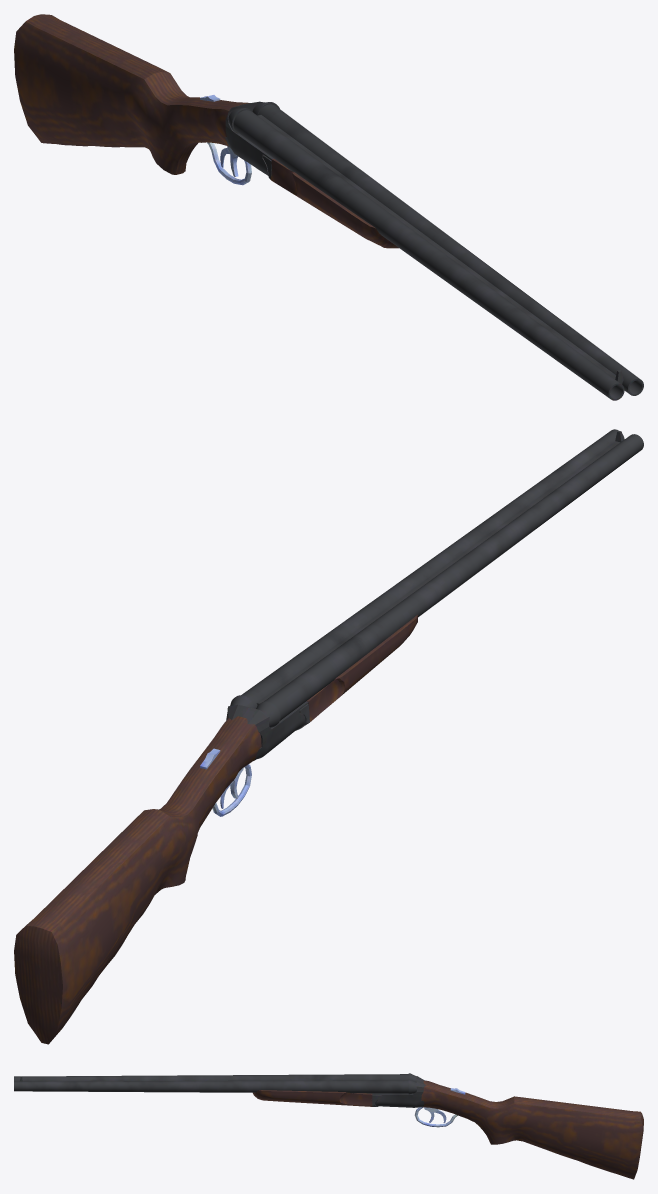
File: shotgun.glb
3 views of the same model, one above another, from view 1: azimuth 30°, elevation 25°; view 2: azimuth 150°, elevation 25°; view 3: azimuth 270°, elevation 25° (orthographic). The views are drawn at different scales.
Visible parts, largest first — view 1: shotgun; view 2: shotgun; view 3: shotgun.
Boxes of the visible parts, <box> form: shotgun: <box>14,14,643,400</box>; shotgun: <box>14,429,643,1044</box>; shotgun: <box>14,1073,643,1179</box>.
Size of the model in its own units: 0.0586 by 0.2207 by 1.23.
Materials: 1 (1 with a texture image).
